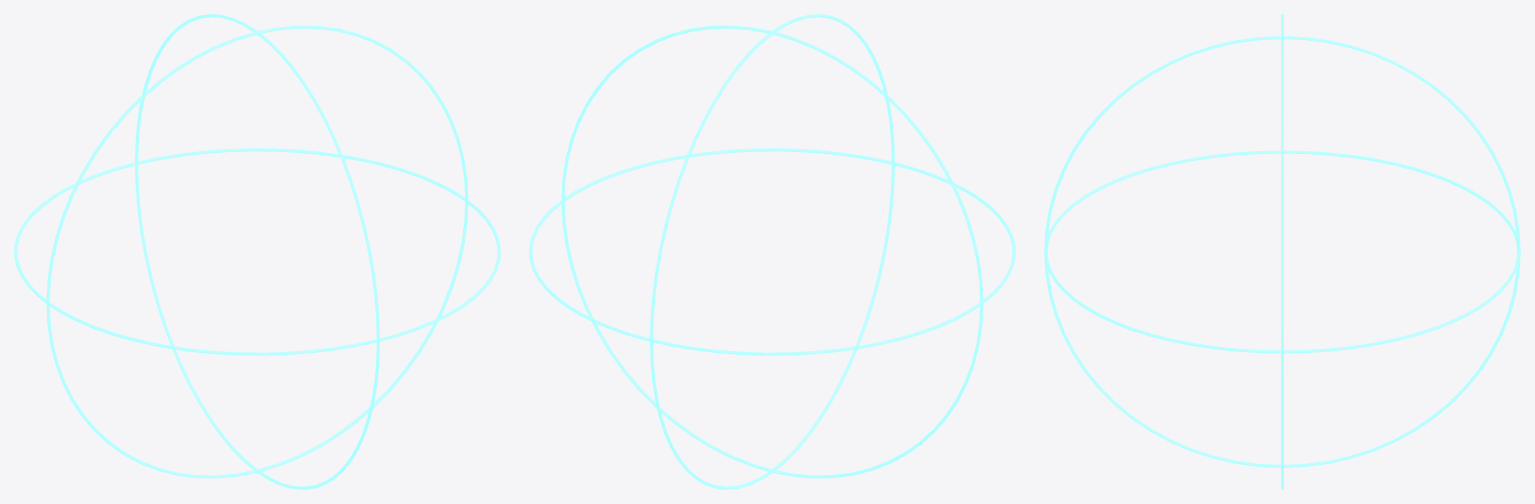
The model's file is orbital-lens.glb.
3 views of the same model, side by side, from view 1: azimuth 30°, elevation 25°; view 2: azimuth 150°, elevation 25°; view 3: azimuth 270°, elevation 25° (orthographic). The views are drawn at different scales.
Parts seen in each view (by area): view 1: Orbital lens; view 2: Orbital lens; view 3: Orbital lens.
Boxes of the visible parts, left/top/right/bottom form: Orbital lens: left=14, top=14, right=500, bottom=489; Orbital lens: left=529, top=14, right=1015, bottom=489; Orbital lens: left=1044, top=14, right=1520, bottom=489.
Bounding box in the file's own units: 2.32 × 2.32 × 2.32.
